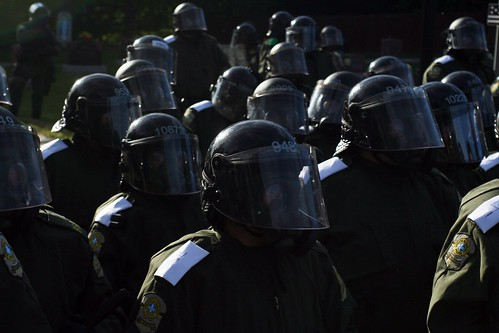policeman: (151, 134, 361, 333), (310, 75, 464, 241), (81, 112, 212, 277)
